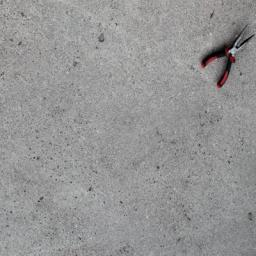FOD: (197, 23, 256, 91)
